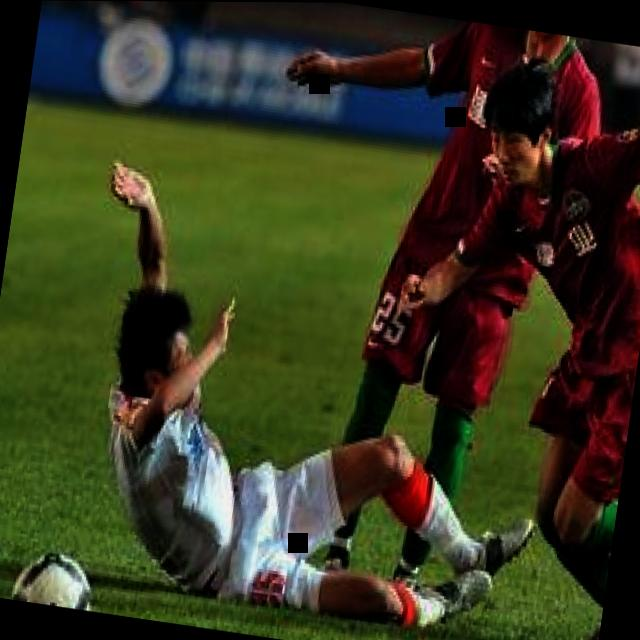Fall-Detected: (53, 134, 585, 640)
